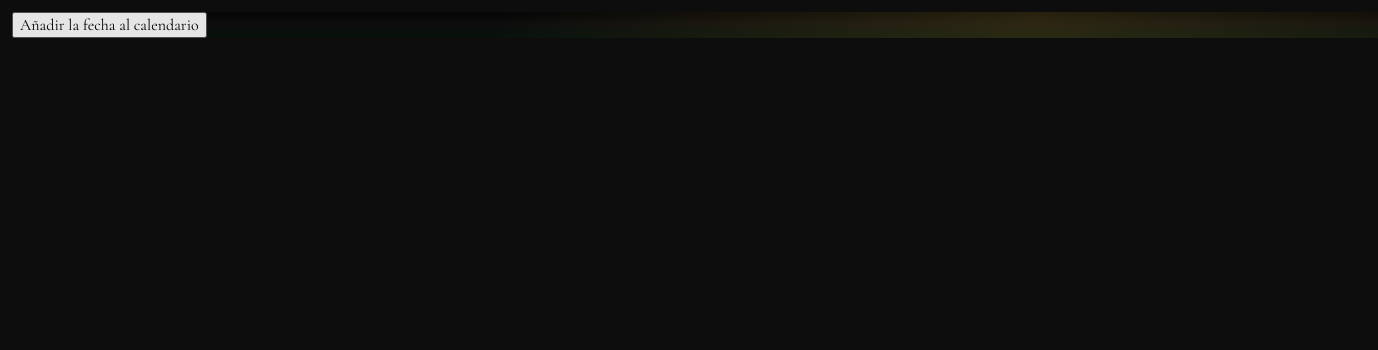
recovers from a calendar download failure with manual details
The image size is (1378, 350).
Click the button "Añadir la fecha al calendario".
click(109, 25)  # box [12,12,207,38]
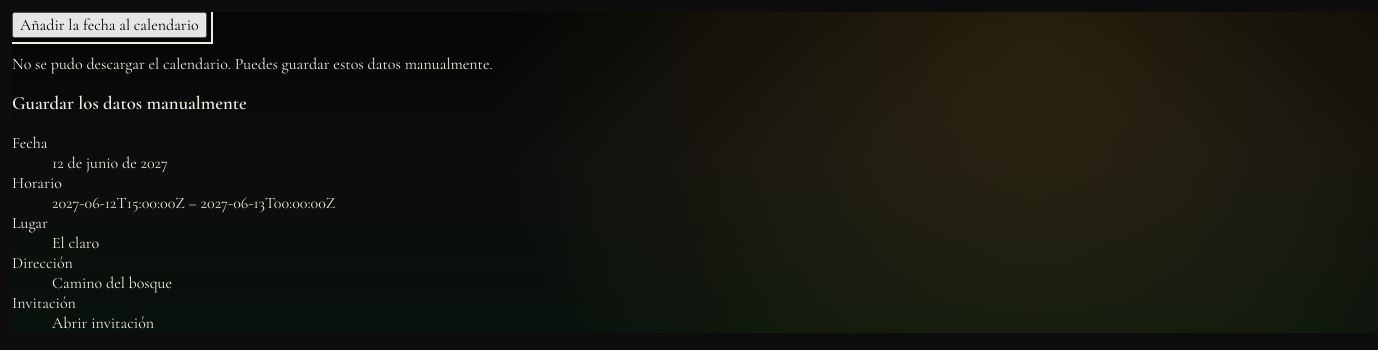
expect the message shows "No se pudo descargar el calendario.": met, box [12,54,493,74]
expect the heading "Guardar los datos manualmente" is shown: met, box [12,93,247,115]
expect the text "12 de junio de 2027" is shown: met, box [52,153,168,173]
